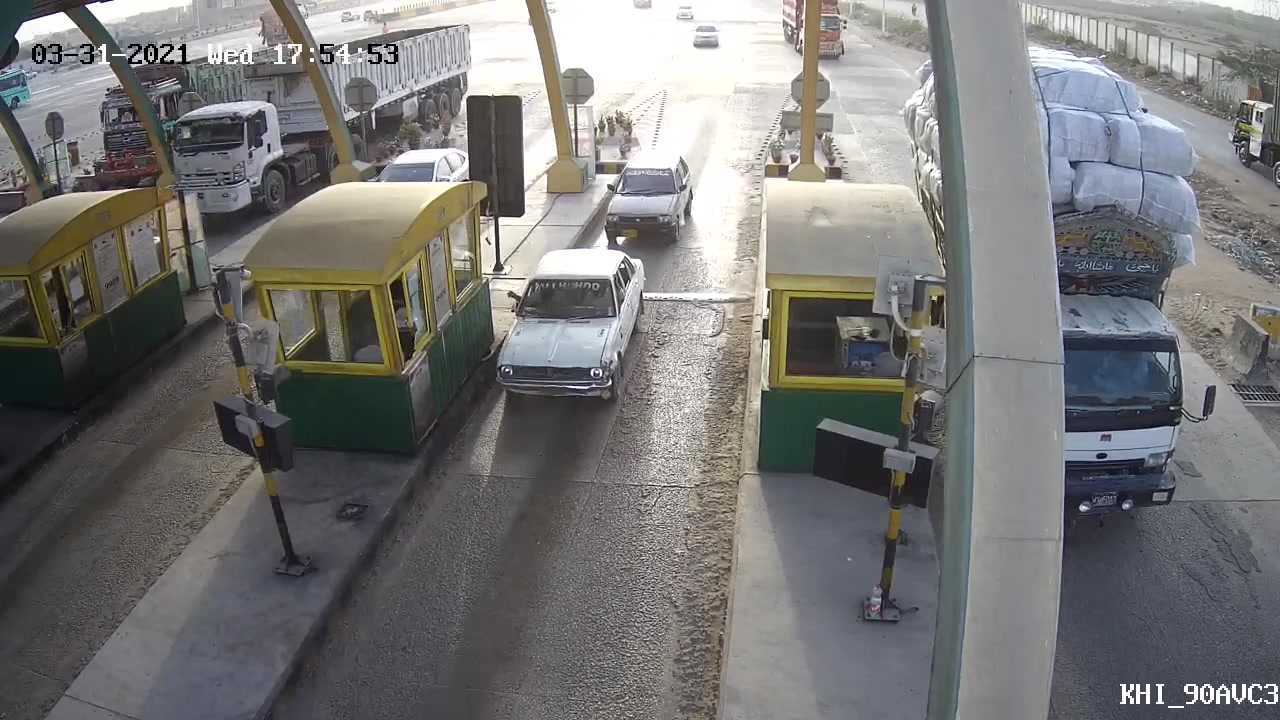F1: (486, 247, 650, 409), (599, 149, 702, 246)
